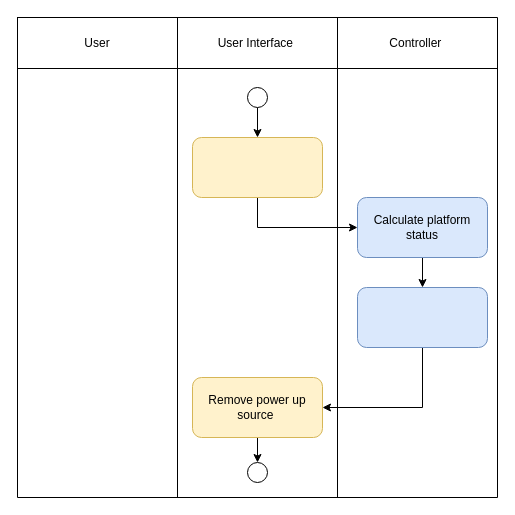
This 515x515 diagram has some shape labels left out. The shapes that lost their labels are listed below. From the top down, each one's centre as x and y in pixels, then its label:
At point (257, 167): "Invoke platform condition (interacted, level loaded)".
At point (422, 317): "Update platform status".
